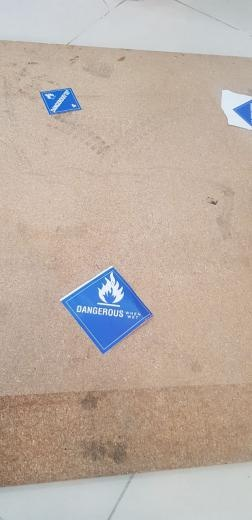Dangerous when wet: (59, 266, 152, 354), (39, 88, 80, 115)
